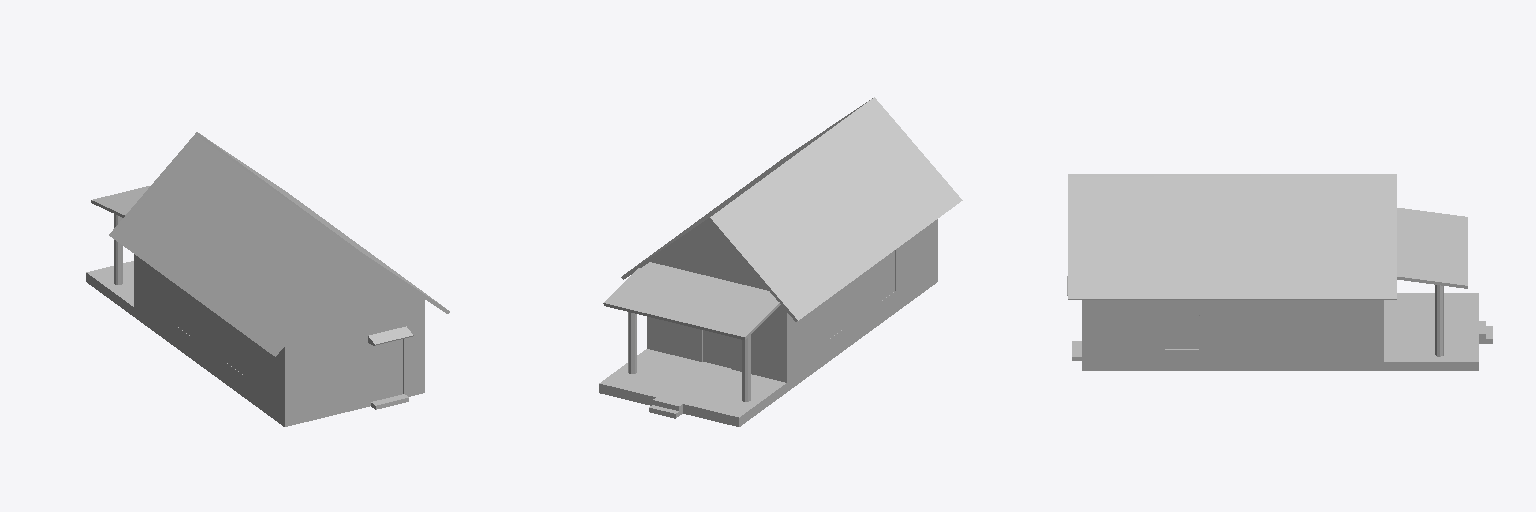
File: house.obj
The picture shows the model from 3 angles: view 1: azimuth 30°, elevation 25°; view 2: azimuth 150°, elevation 25°; view 3: azimuth 270°, elevation 25°; orthographic projection.
Parts seen in each view (by area): view 1: polySurface73; view 2: polySurface73; view 3: polySurface73.
Part boxes in pixels (left/top/right/bottom): polySurface73: left=86, top=132, right=449, bottom=426; polySurface73: left=599, top=97, right=962, bottom=426; polySurface73: left=1067, top=174, right=1492, bottom=370.
Size of the model in its own units: 24.28 by 21.28 by 50.36.